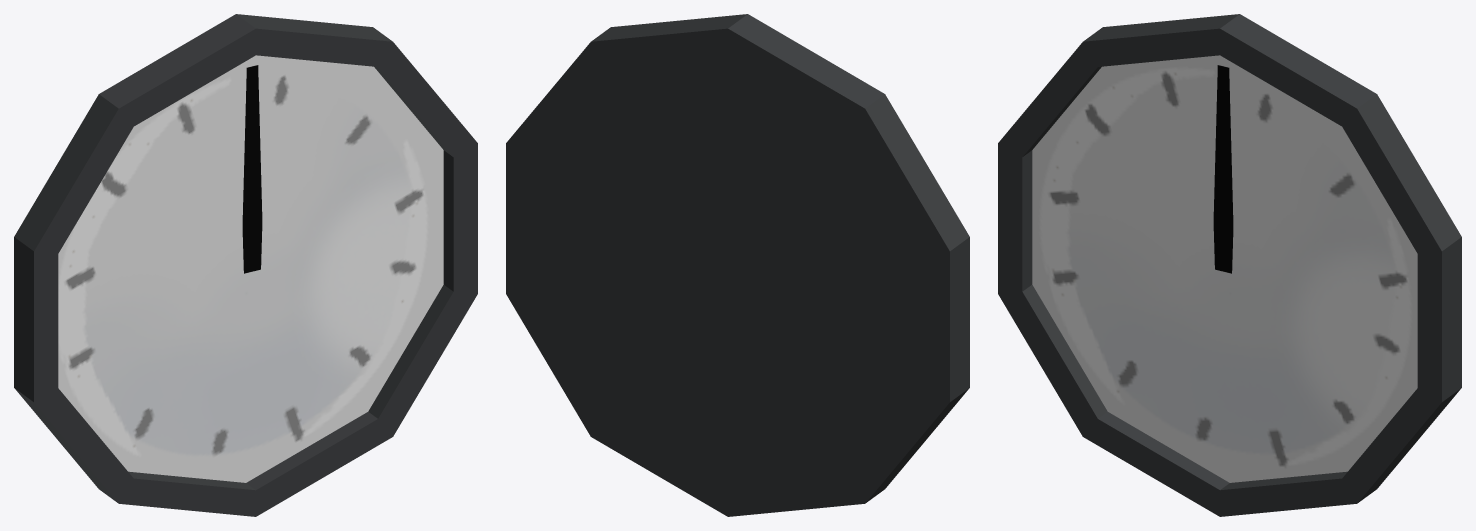
File: clock.fbx
The picture shows the model from 3 angles, left to right: view 1: azimuth 30°, elevation 25°; view 2: azimuth 150°, elevation 25°; view 3: azimuth 330°, elevation 25°; orthographic projection.
Visible parts, largest first — view 1: clock, second hand; view 2: clock; view 3: clock, second hand.
Boxes of the visible parts, x1,y1,x2,y2 form: clock: (14, 14, 477, 516); second hand: (242, 65, 262, 273); clock: (506, 14, 969, 516); clock: (998, 14, 1461, 516); second hand: (1213, 65, 1233, 273).
Bounding box in the file's own units: 190 × 200 × 14.81.
